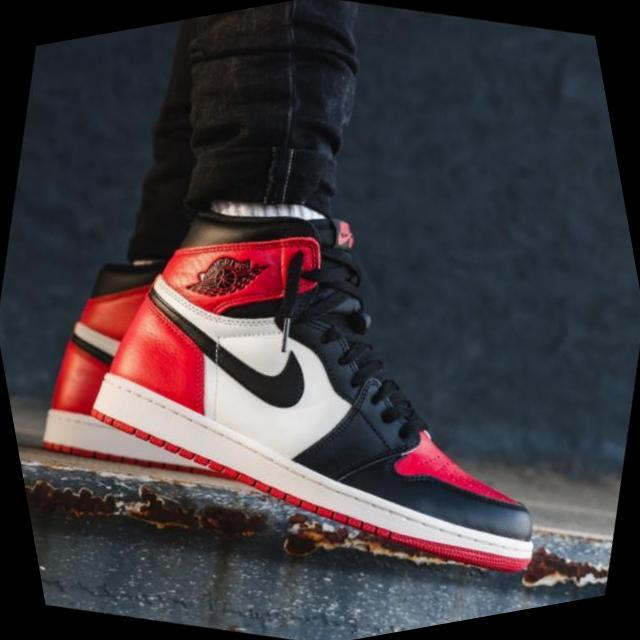nike_original_jordan: (20, 105, 639, 640)
